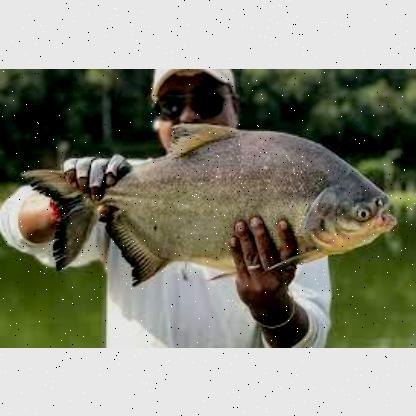ikan-pacu: (49, 130, 396, 276)
